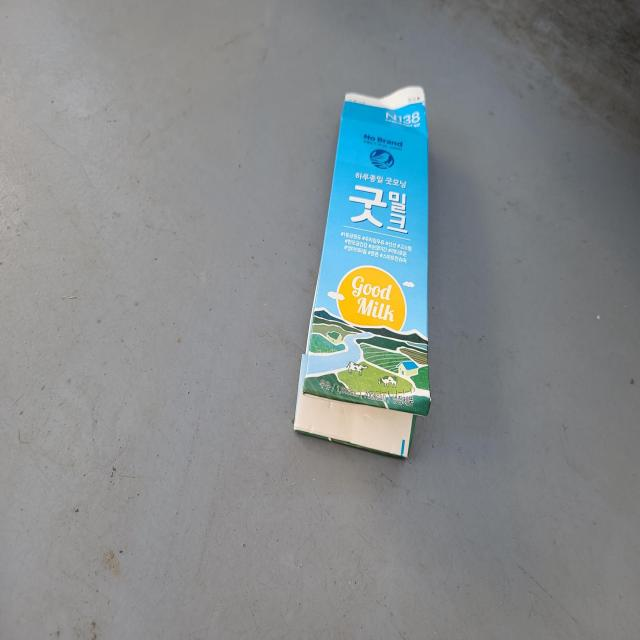paperpack: (294, 85, 431, 457)
